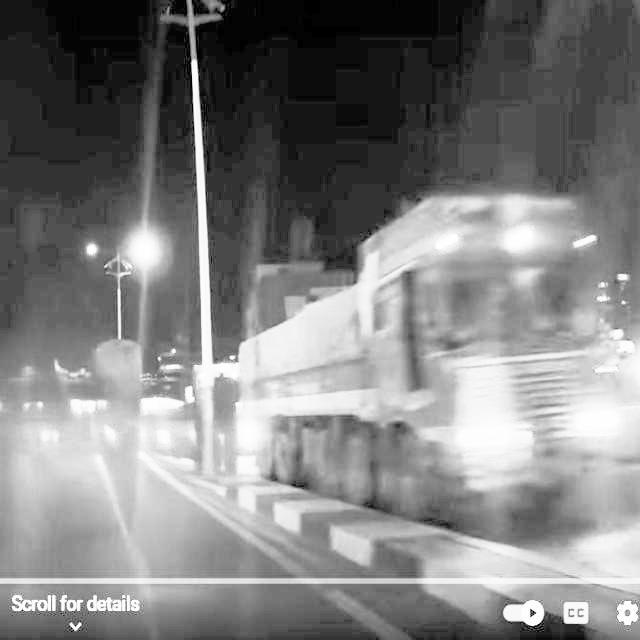Truck: (235, 191, 638, 529)
